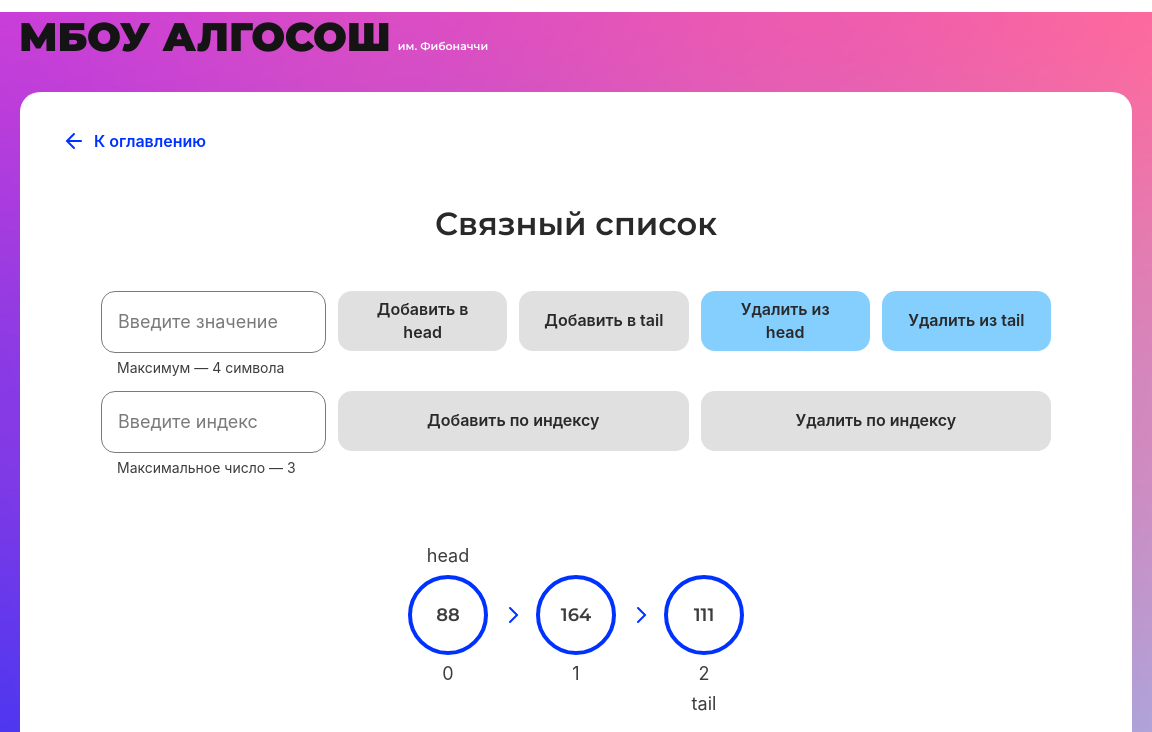
list page works correctly › should delete tail element correctly
Click the button with test id "list-delete-tail" at (967,321), box x1=882 y1=291 x2=1051 y2=351
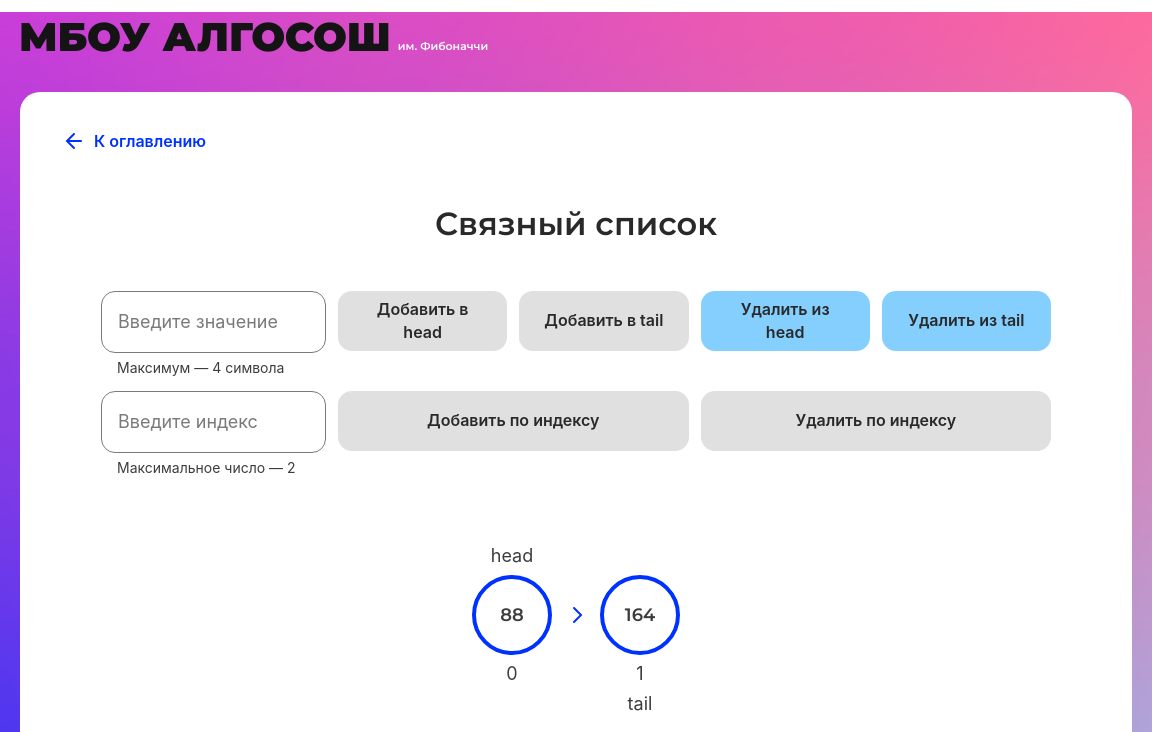
Check: the number of elements with test id "list-circle" is 2, box x1=472 y1=575 x2=552 y2=655
